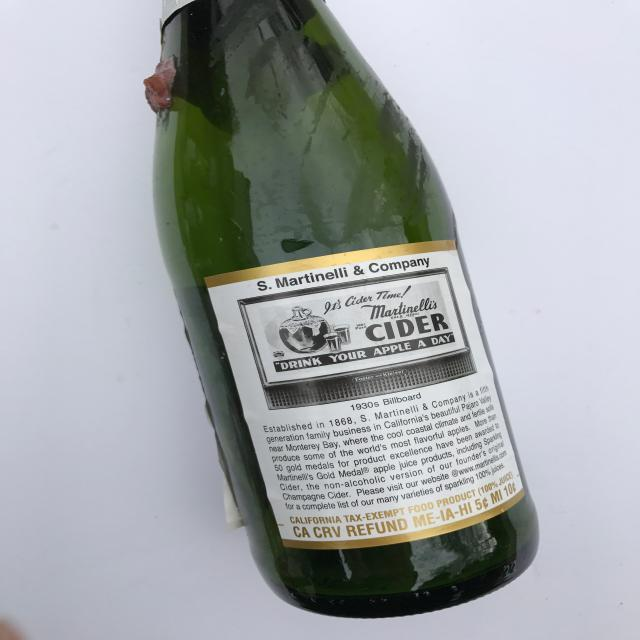glass: (134, 1, 546, 622)
